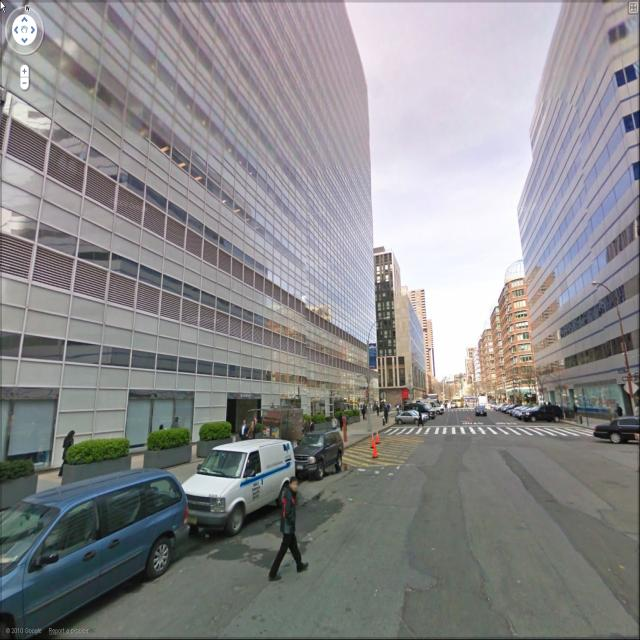b_1: (5, 1, 378, 400), (512, 4, 640, 413), (364, 254, 428, 393), (502, 270, 546, 400), (412, 277, 440, 383), (492, 300, 514, 407), (473, 324, 504, 396)
